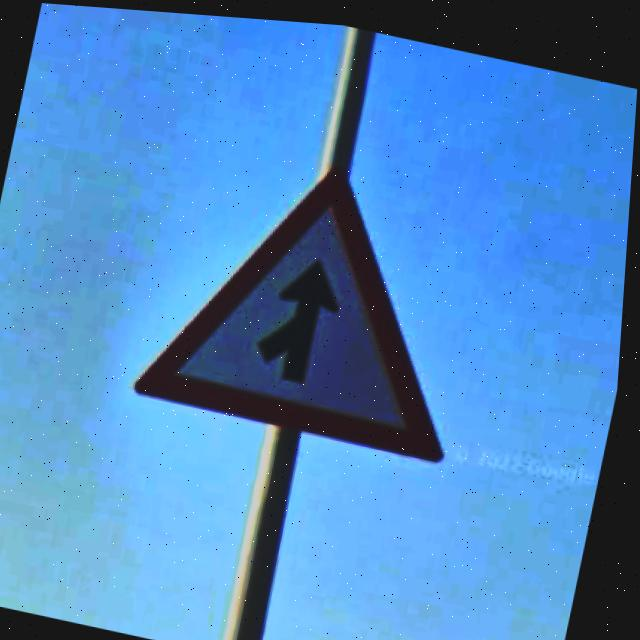leftmerge: (137, 161, 448, 456)
